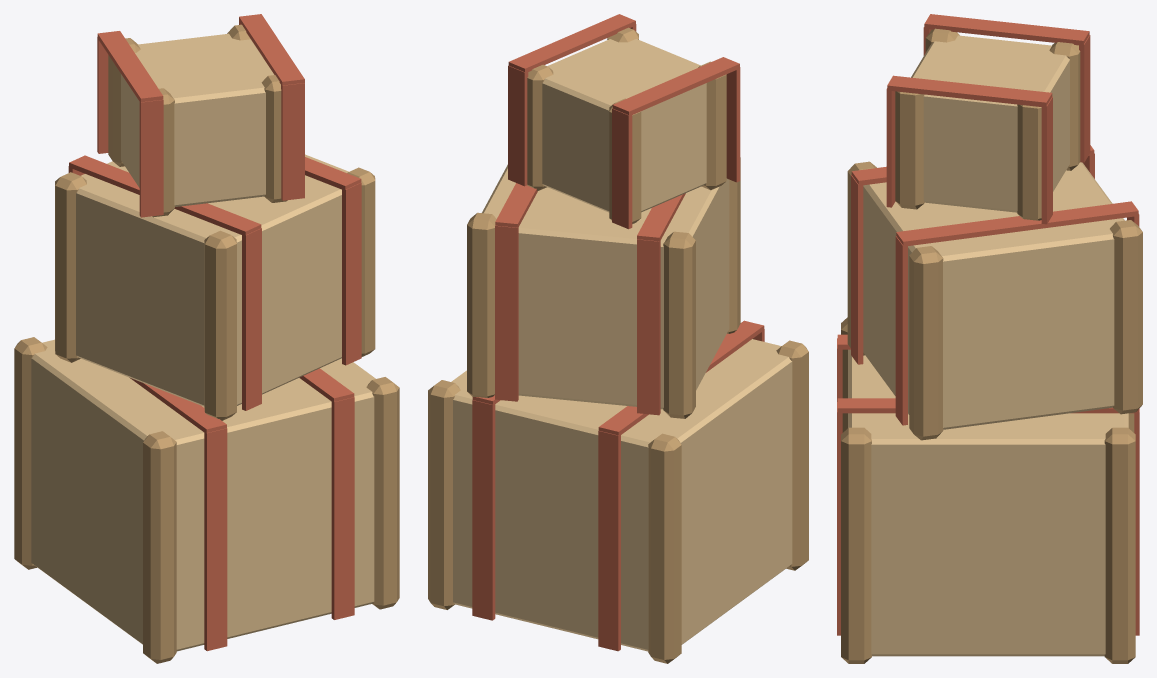
Rendered from crate_stack.glb.
The picture shows the model from 3 angles, left to right: view 1: azimuth 30°, elevation 25°; view 2: azimuth 150°, elevation 25°; view 3: azimuth 270°, elevation 25°; orthographic projection. The views are drawn at different scales.
Parts seen in each view (by area): view 1: crate_stack; view 2: crate_stack; view 3: crate_stack.
Boxes of the visible parts, bbox=[...] form: crate_stack: bbox=[14, 14, 399, 663]; crate_stack: bbox=[428, 14, 808, 663]; crate_stack: bbox=[837, 14, 1142, 663].
Size of the model in its own units: 0.9013 by 1.75 by 0.8933.
